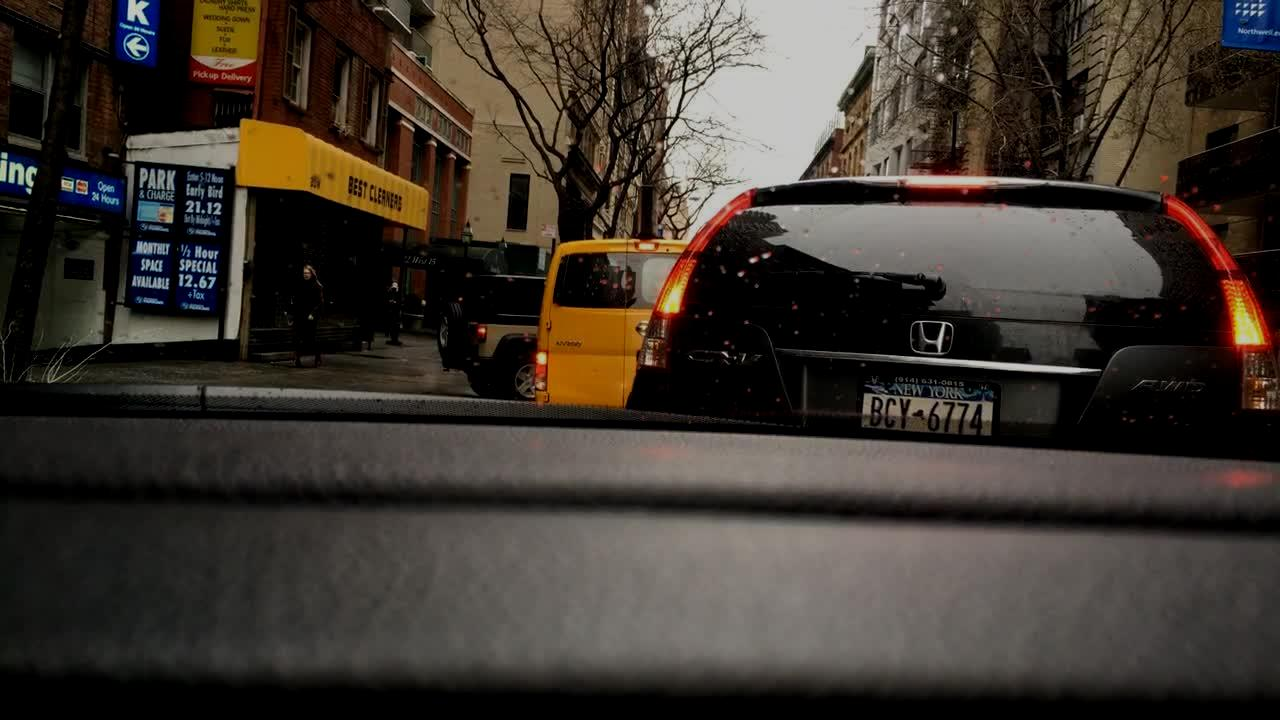Honda: (906, 314, 957, 359)
Nissan: (629, 317, 654, 338)
